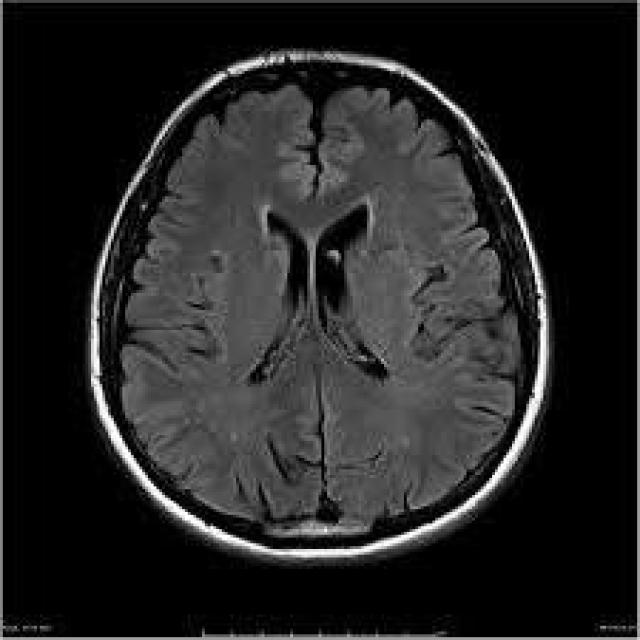no-tumor: (184, 150, 462, 438)
